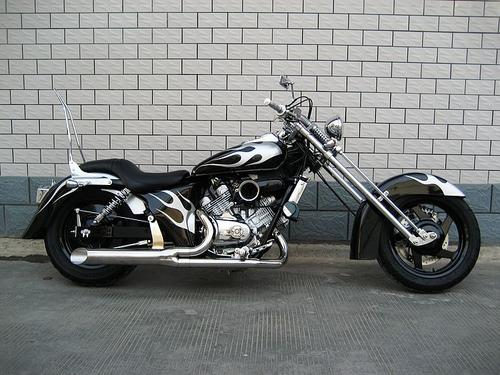motor: (41, 81, 468, 301)
